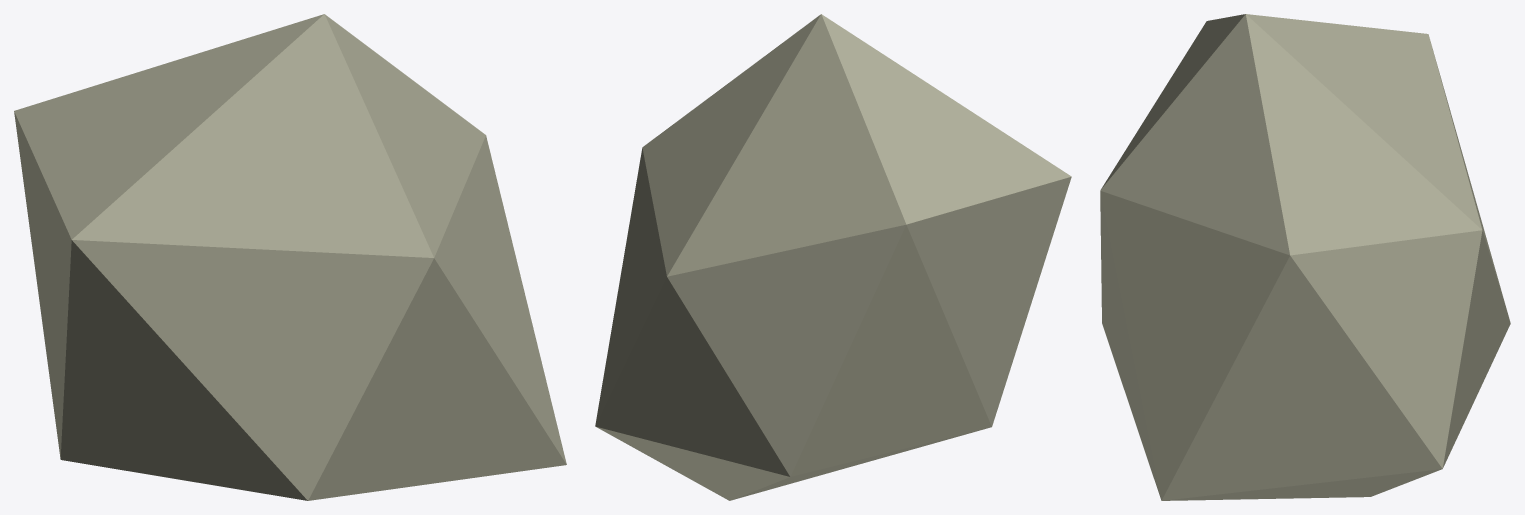
Rendered from asteroid_4.glb.
3 views of the same model, side by side, from view 1: azimuth 30°, elevation 25°; view 2: azimuth 150°, elevation 25°; view 3: azimuth 270°, elevation 25° (orthographic). The views are drawn at different scales.
Visible parts, largest first — view 1: Asteroid_4; view 2: Asteroid_4; view 3: Asteroid_4.
Boxes of the visible parts, x1,y1,x2,y2 form: Asteroid_4: [14, 14, 566, 500]; Asteroid_4: [595, 14, 1071, 500]; Asteroid_4: [1100, 14, 1510, 500].
Bounding box in the file's own units: 0.6599 × 0.7188 × 0.5726.
